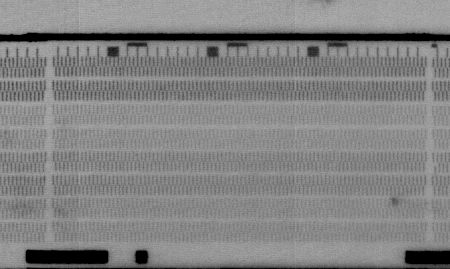Oblique printing: (431, 162, 441, 176)
